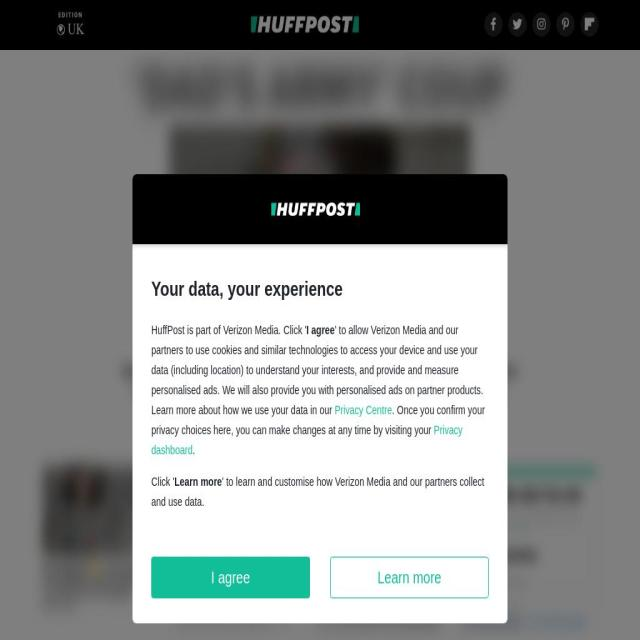button: (151, 557, 310, 598), (330, 557, 489, 598), (271, 202, 360, 216)
heading: (151, 278, 489, 300)
image: (271, 202, 360, 216)
link: (152, 423, 462, 457), (334, 403, 392, 417)
text: (151, 323, 484, 417), (151, 403, 485, 437), (152, 475, 484, 508), (152, 323, 306, 337), (174, 475, 222, 488), (306, 323, 335, 337), (152, 475, 174, 488), (192, 443, 195, 457)
